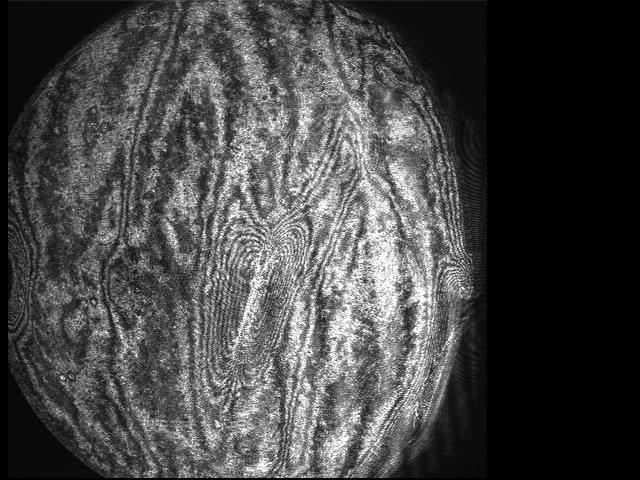plume: (192, 216, 312, 396)
